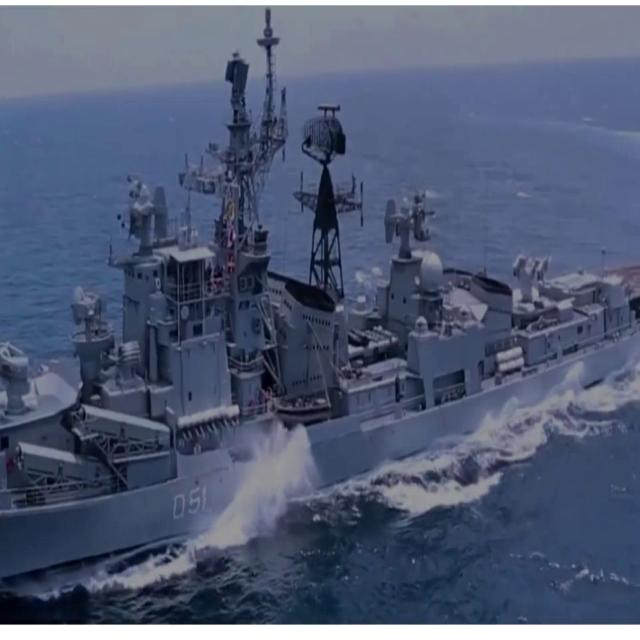OCR: (161, 478, 212, 530)
